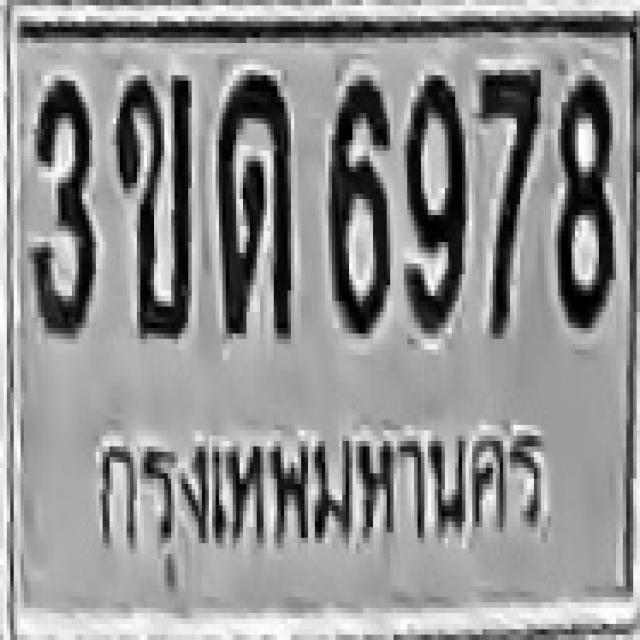0: (404, 72, 465, 330)
11KhorKhai: (113, 73, 192, 336)
3: (29, 75, 94, 334)
6: (329, 75, 390, 334)
7: (479, 67, 541, 336)
8: (554, 72, 612, 326)
9: (404, 72, 465, 330)
Bangkok: (84, 412, 546, 590)
